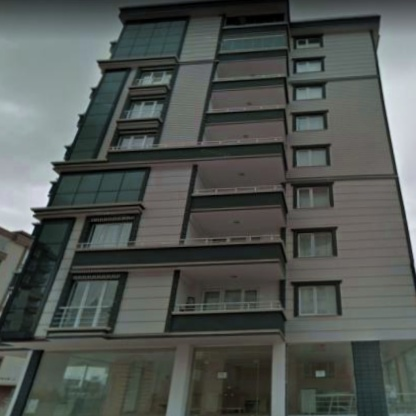door: (200, 360, 257, 416)
